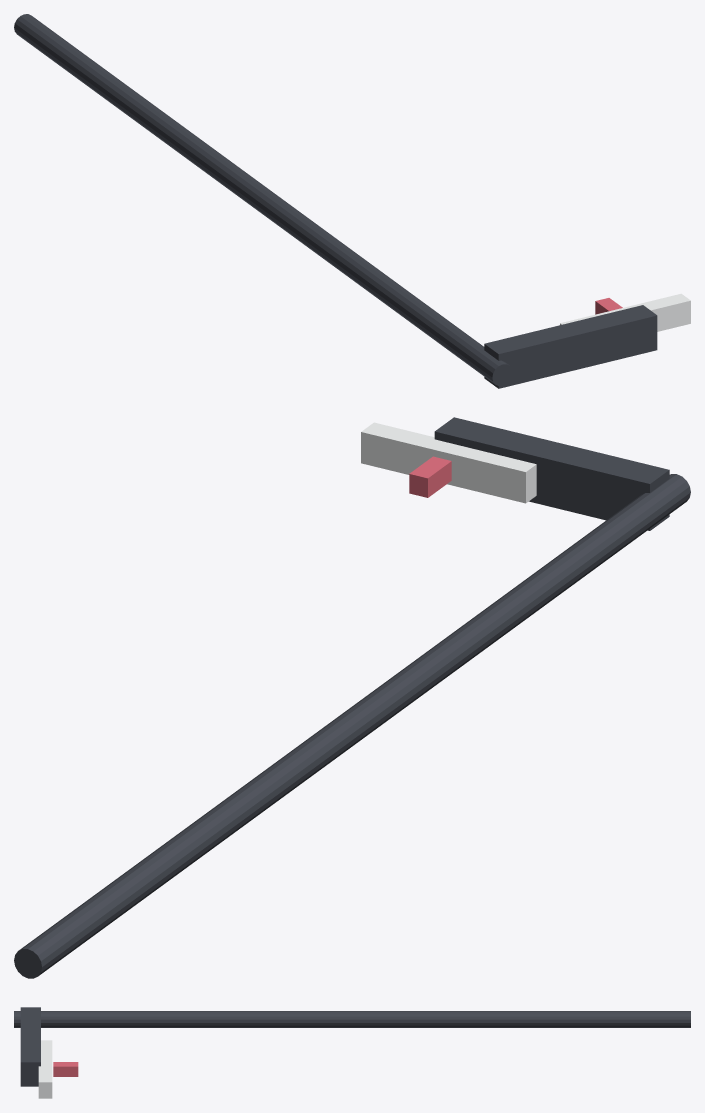
File: cool_white_red_edge_streetlight.glb
3 renders of one model, top to bottom at view 1: azimuth 30°, elevation 25°; view 2: azimuth 150°, elevation 25°; view 3: azimuth 270°, elevation 25°, orthographic. The views are drawn at different scales.
Visible parts, largest first — view 1: cool_white_red_edge_streetlight_part_0, cool_white_red_edge_streetlight_part_1, cool_white_red_edge_streetlight_part_2; view 2: cool_white_red_edge_streetlight_part_0, cool_white_red_edge_streetlight_part_1, cool_white_red_edge_streetlight_part_2, cool_white_red_edge_streetlight_part_3; view 3: cool_white_red_edge_streetlight_part_0, cool_white_red_edge_streetlight_part_1, cool_white_red_edge_streetlight_part_2, cool_white_red_edge_streetlight_part_3.
Boxes of the visible parts, box(x1,y1,x2,y2) form: cool_white_red_edge_streetlight_part_0: box(14, 14, 512, 386); cool_white_red_edge_streetlight_part_1: box(484, 305, 657, 388); cool_white_red_edge_streetlight_part_2: box(560, 293, 690, 331); cool_white_red_edge_streetlight_part_0: box(14, 474, 690, 978); cool_white_red_edge_streetlight_part_1: box(434, 417, 669, 530); cool_white_red_edge_streetlight_part_2: box(361, 422, 536, 503); cool_white_red_edge_streetlight_part_3: box(409, 456, 451, 497); cool_white_red_edge_streetlight_part_0: box(14, 1011, 690, 1027); cool_white_red_edge_streetlight_part_1: box(20, 1007, 40, 1086); cool_white_red_edge_streetlight_part_2: box(38, 1040, 52, 1098); cool_white_red_edge_streetlight_part_3: box(53, 1062, 78, 1076).
Bounding box in the file's own units: 1.57 × 0.24 × 6.
